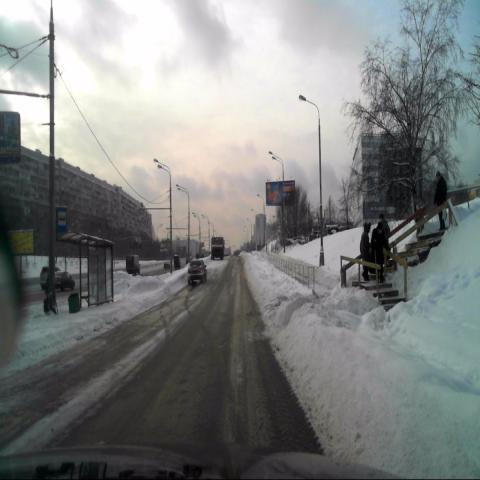5_16: (56, 207, 66, 231)
